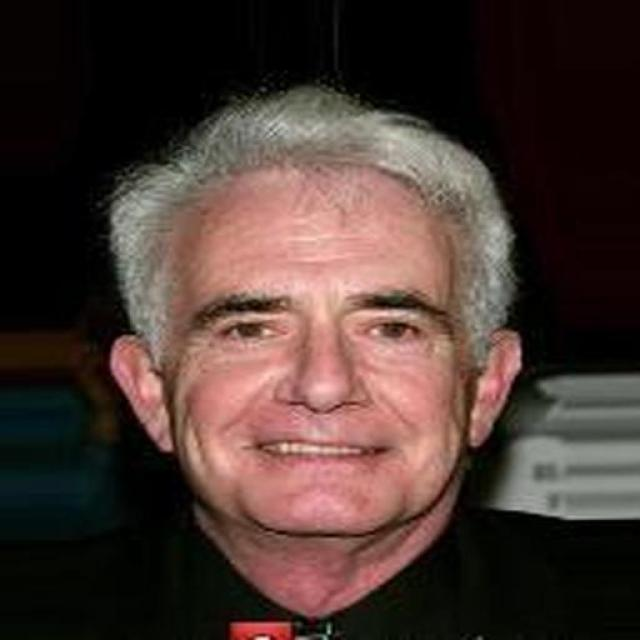bareface: (125, 183, 525, 525)
